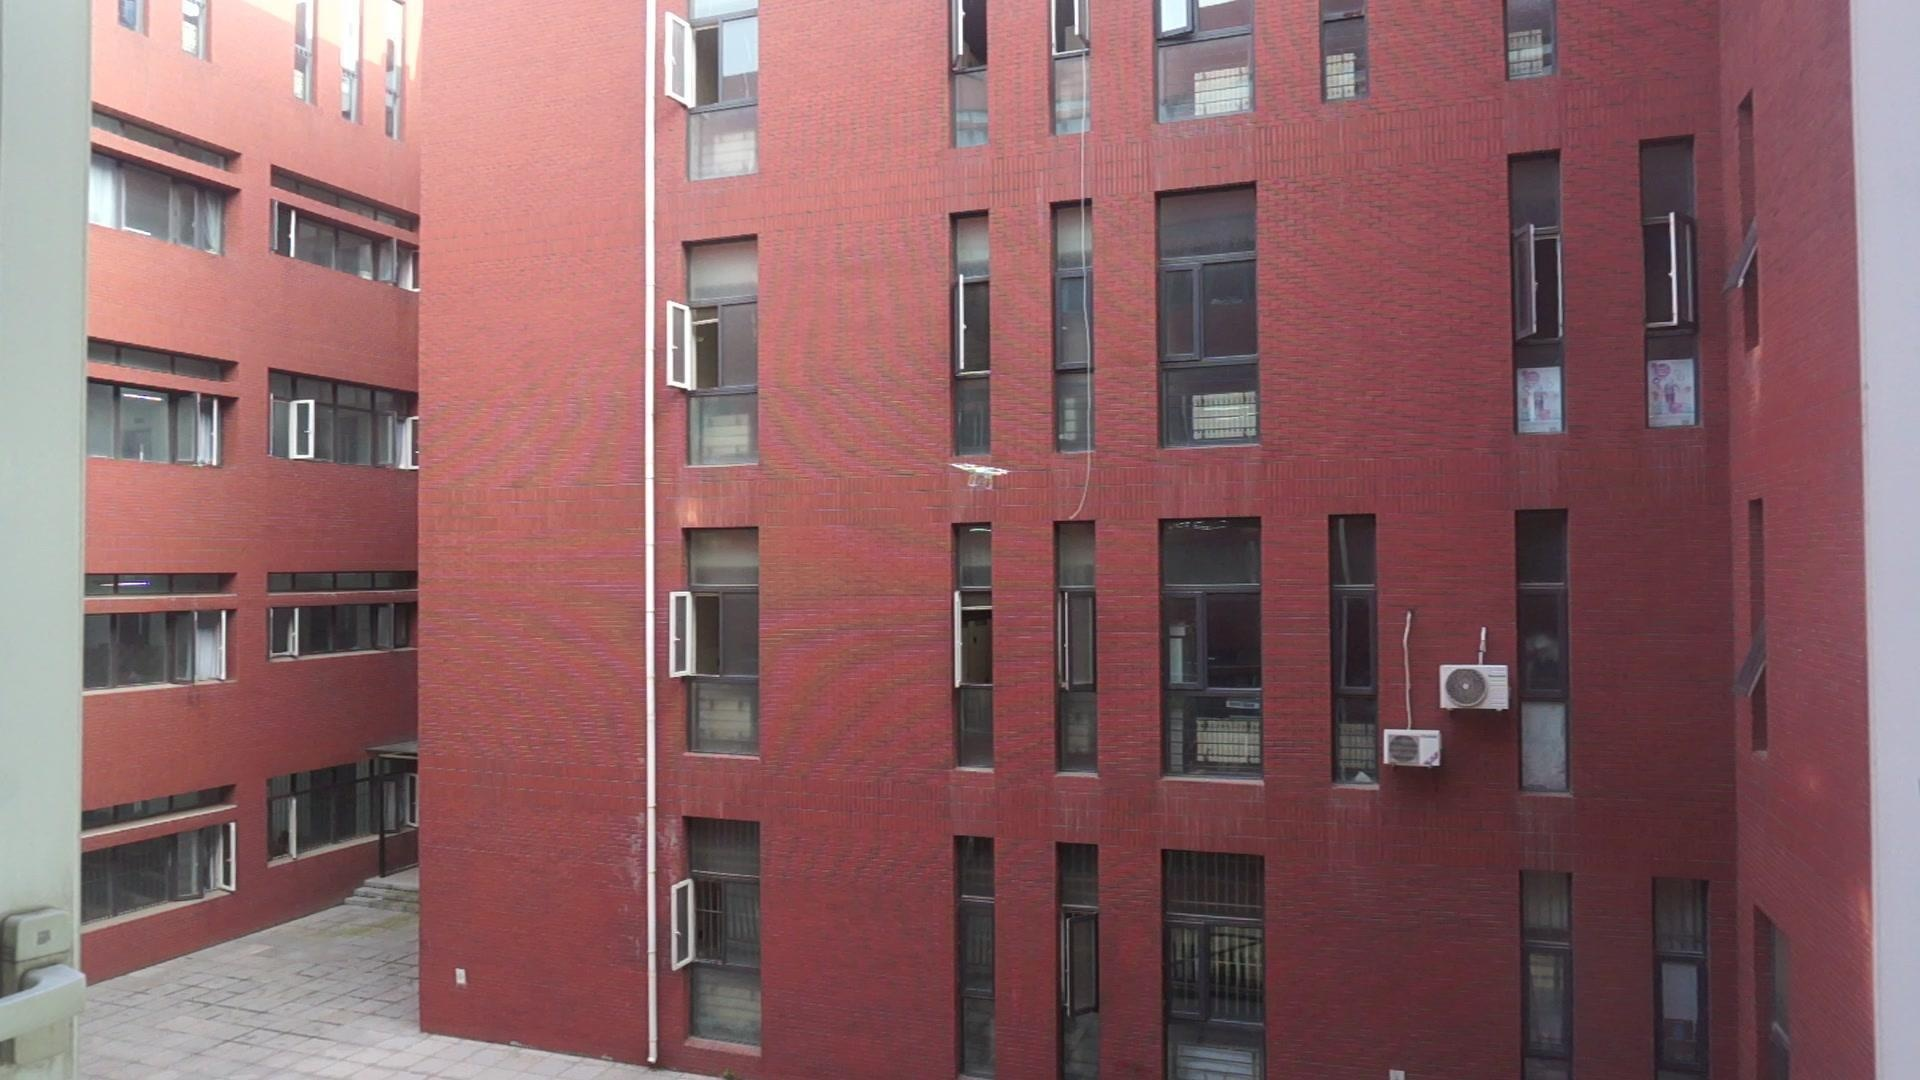UAV: (949, 464, 1010, 491)
